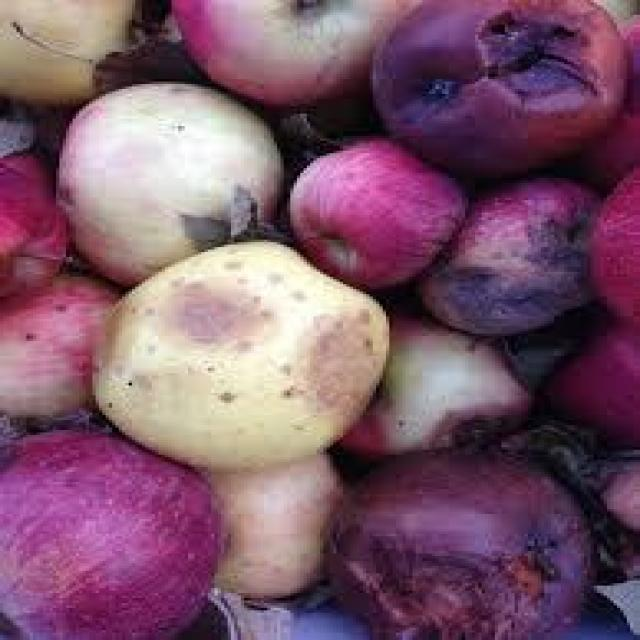Fresh Apple: (3, 426, 202, 636)
Rotten: (112, 255, 390, 467), (336, 453, 583, 640), (376, 2, 616, 178), (420, 186, 593, 336)
